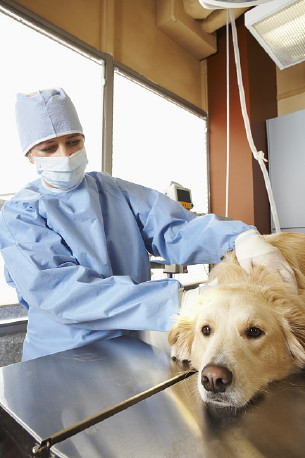face_mask: (33, 135, 85, 193)
